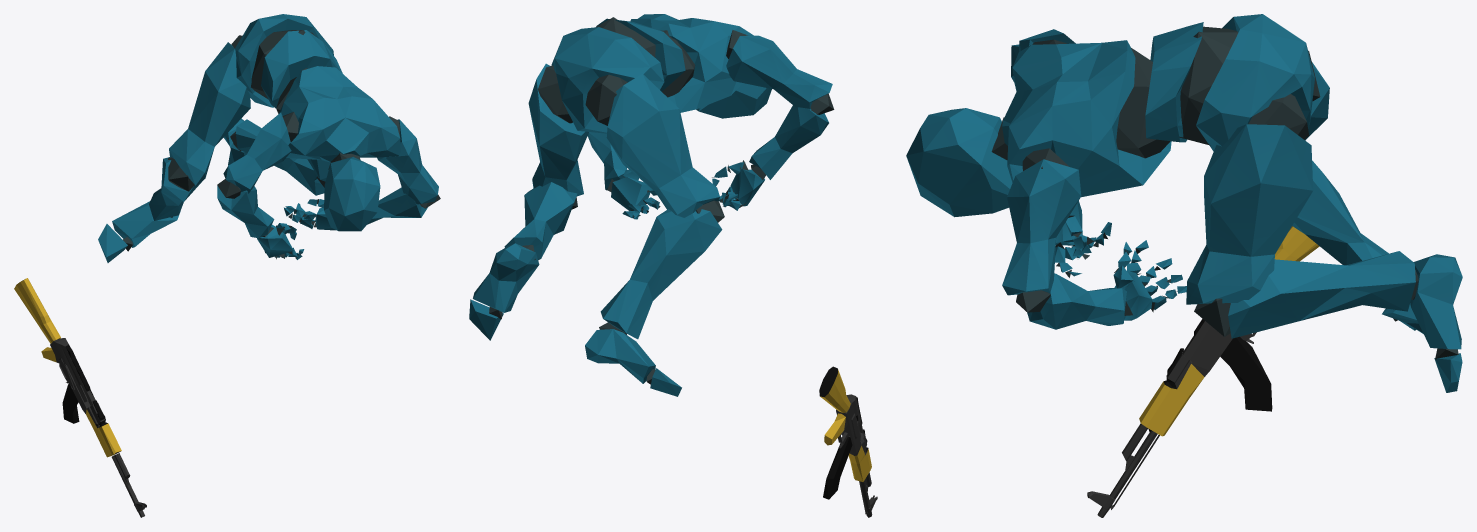
File: EnemyDying_000065.obj
3 views of the same model, side by side, from view 1: azimuth 30°, elevation 25°; view 2: azimuth 150°, elevation 25°; view 3: azimuth 270°, elevation 25° (orthographic). The views are drawn at different scales.
Parts seen in each view (by area): view 1: Alpha_Surface, AK-47_Cube, Alpha_Joints; view 2: Alpha_Surface, Alpha_Joints, AK-47_Cube; view 3: Alpha_Surface, Alpha_Joints, AK-47_Cube.
Boxes of the visible parts, left/top/right/bottom form: Alpha_Surface: left=98, top=14, right=438, bottom=262; AK-47_Cube: left=14, top=278, right=146, bottom=517; Alpha_Joints: left=123, top=30, right=440, bottom=259; Alpha_Surface: left=469, top=14, right=832, bottom=396; Alpha_Joints: left=489, top=17, right=834, bottom=384; AK-47_Cube: left=819, top=366, right=877, bottom=517; Alpha_Surface: left=906, top=14, right=1462, bottom=392; Alpha_Joints: left=991, top=26, right=1458, bottom=359; AK-47_Cube: left=1087, top=226, right=1319, bottom=517.
Bounding box in the file's own units: 234 × 291 × 233.
